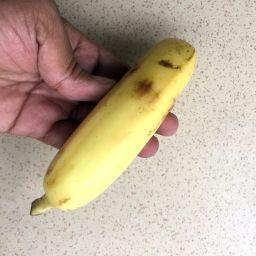Banana Ripe: (31, 25, 195, 233)
